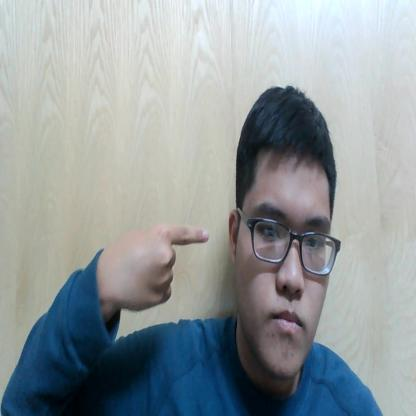left: (115, 214, 217, 320)
